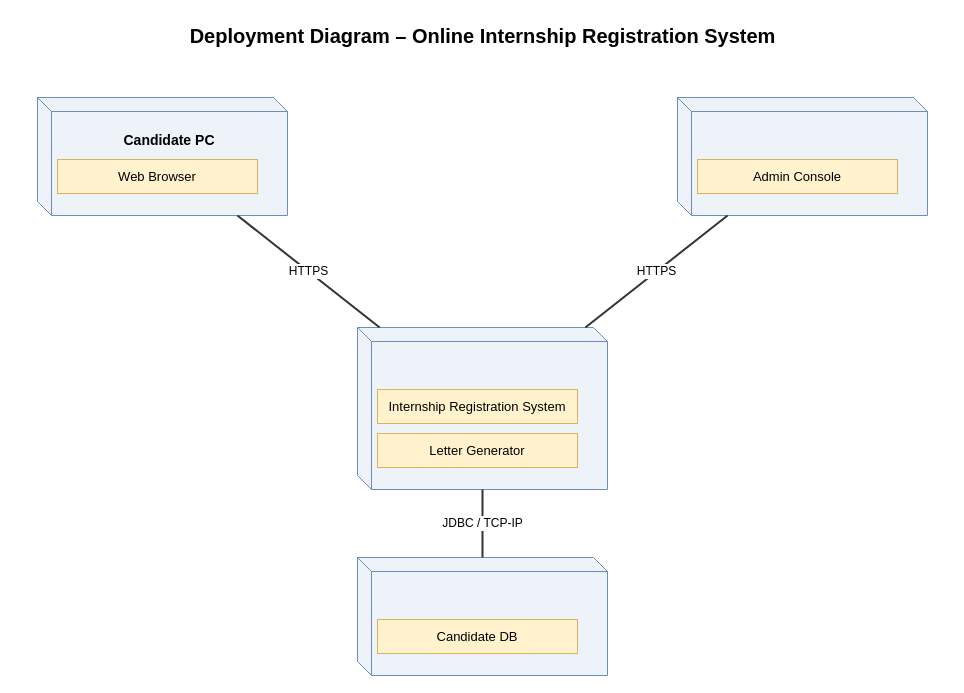
The diagram is 964 pixels wide and 693 high, and some of its shapes have lost their labels. The shapes that lost their labels are listed below. From the top down, each one's box as (x1, y1, x2, y2) in pixels, then its label:
(676, 96, 928, 216): Admin PC
(356, 326, 608, 490): Application Server
(356, 556, 608, 676): Database Server
